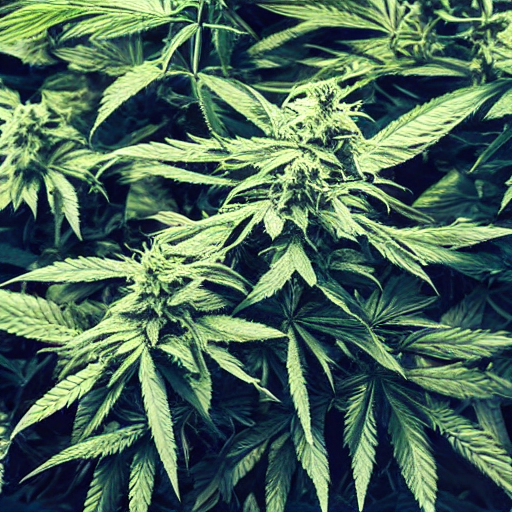Marijuana Joint: (23, 22, 503, 485)
